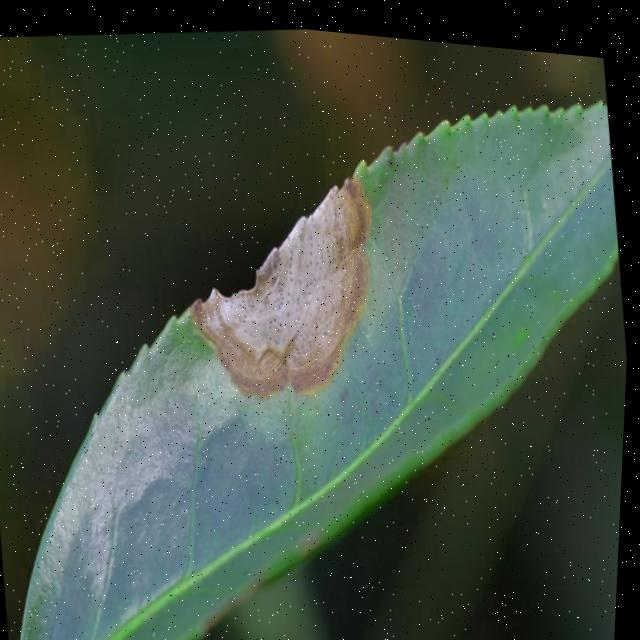Tea cloud leaf blight: (180, 154, 396, 403)
